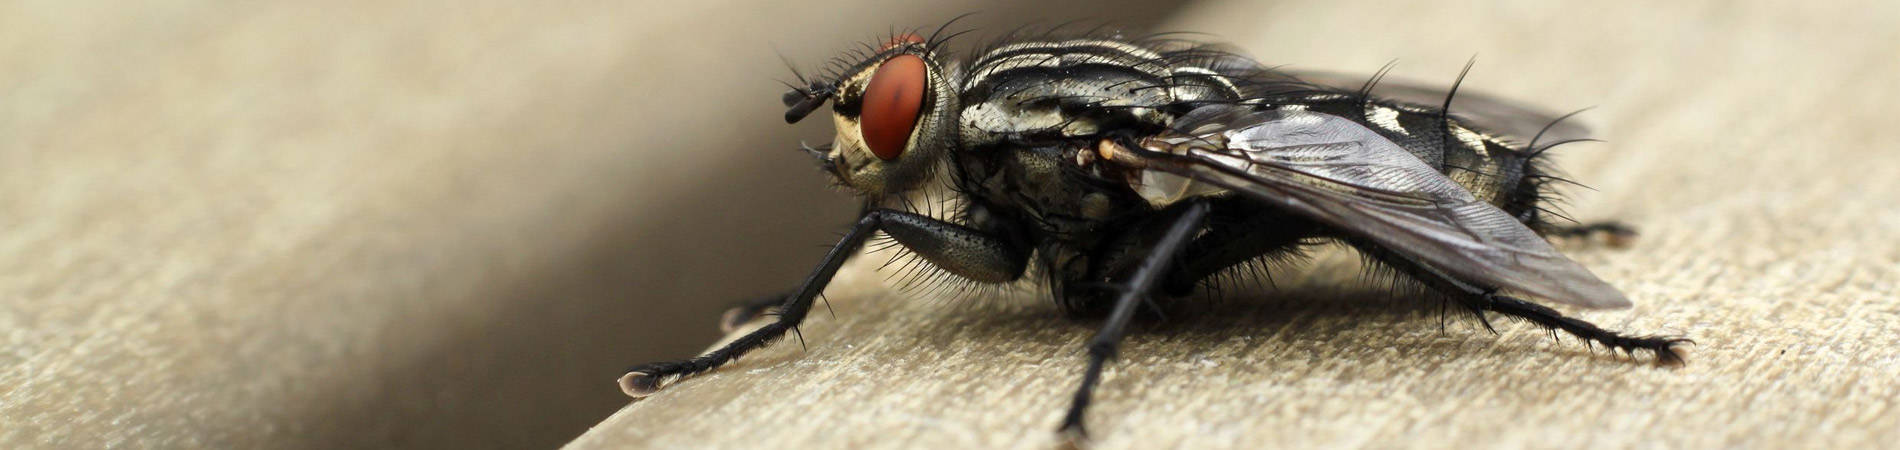fly: (599, 4, 1699, 450)
